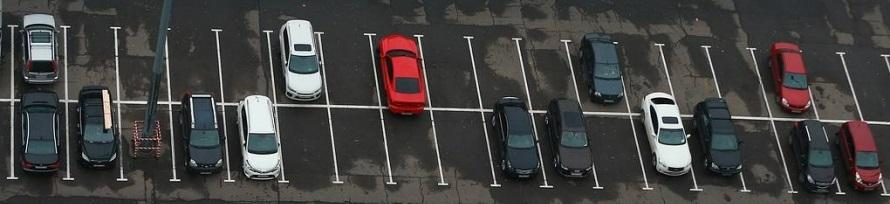occupied: (679, 116, 746, 191), (532, 111, 598, 187), (631, 114, 697, 190), (772, 120, 840, 193), (819, 121, 886, 195), (482, 110, 546, 187), (223, 104, 284, 182), (752, 49, 818, 121), (170, 103, 230, 181), (566, 41, 630, 114), (370, 35, 431, 109), (269, 32, 329, 106), (67, 101, 122, 180), (13, 101, 68, 179), (12, 26, 67, 101)
vacant: (581, 113, 648, 189), (660, 45, 727, 118), (727, 118, 793, 192), (431, 109, 495, 185), (329, 107, 392, 183), (276, 105, 338, 182), (381, 107, 443, 184), (706, 47, 772, 119), (419, 36, 482, 111), (469, 37, 532, 112), (518, 39, 581, 113), (615, 43, 678, 116), (319, 33, 381, 107), (800, 51, 863, 122), (217, 30, 275, 105), (166, 29, 223, 104), (65, 27, 119, 102), (116, 28, 170, 103)
